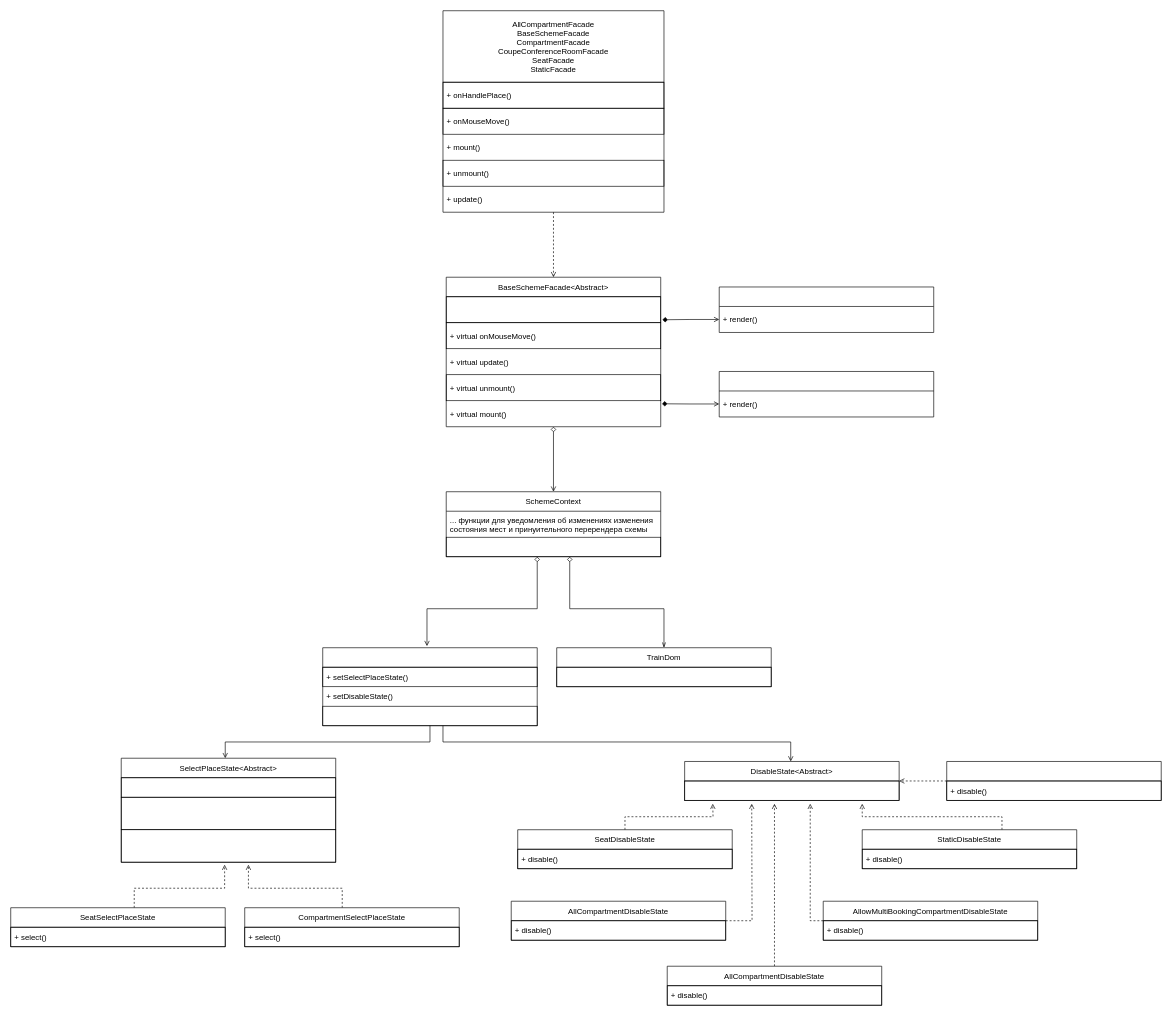
The diagram is 1172 pixels wide and 1016 high, and some of its shapes have lost their labels. The box of each missing label's shape, as (x1, y1, x2, y2) in pixels:
+ setCannotSelect() Блокирует места в рамках "доступности": (121, 797, 336, 830)
+ virtual disable(): (684, 780, 899, 800)
+ virtual onHandlePlace(): (446, 296, 661, 323)
+ virtual select(): (121, 777, 336, 797)
+ много методов по заимодействию с DOM в схеме: (556, 667, 771, 687)
+setCanSelect() Разблокировка всех мест: (121, 829, 336, 862)
... композииия методов из trainDom и TrainShemeModel: (446, 537, 661, 557)
... много методов, которые осуществляют доступ до состояния модели: (322, 706, 537, 726)
AllowMultiBookingDisableState: (946, 761, 1161, 800)
CompartmentRenderer: (719, 371, 934, 417)
PlaceRenderer: (719, 286, 934, 332)
SchemeModel: (322, 647, 537, 726)
